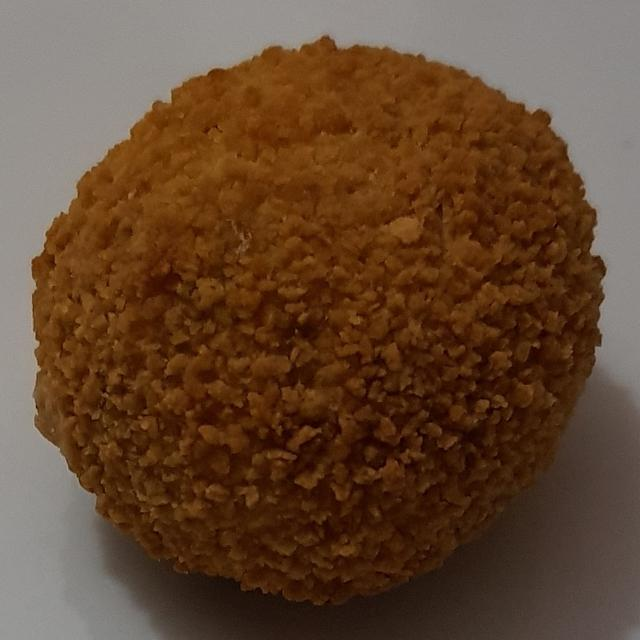Chicken Cutlet: (29, 35, 608, 610)
